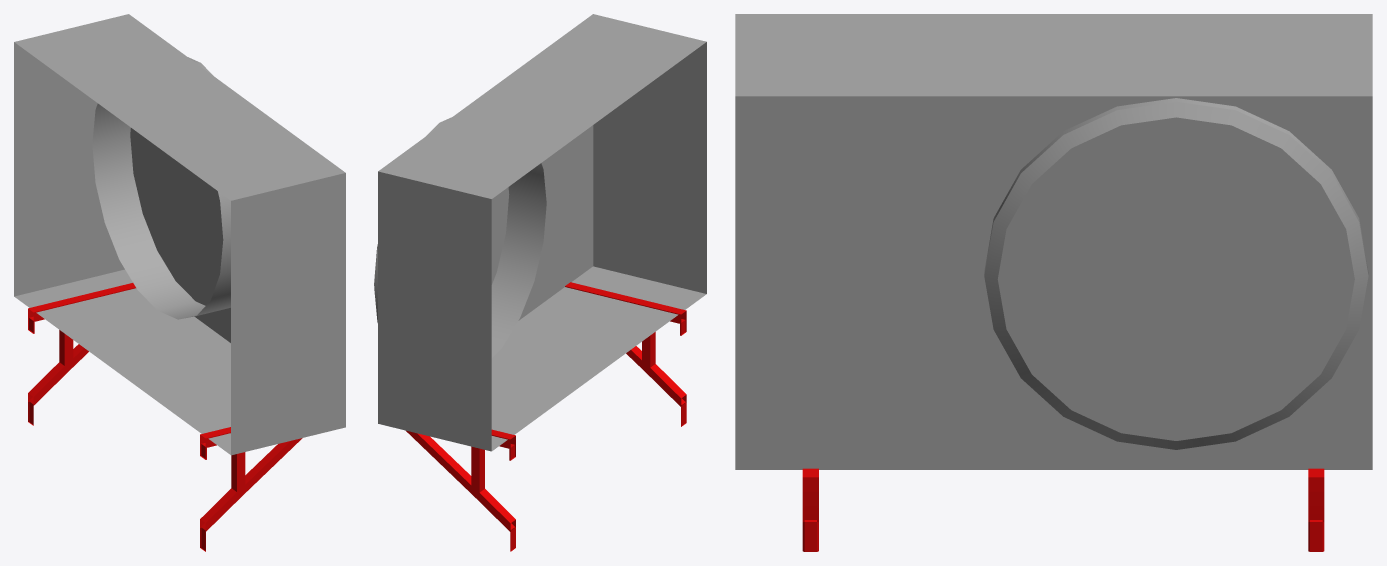
Rendered from AIR CON.fbx.
3 views of the same model, side by side, from view 1: azimuth 30°, elevation 25°; view 2: azimuth 150°, elevation 25°; view 3: azimuth 270°, elevation 25° (orthographic). The views are drawn at different scales.
Parts seen in each view (by area): view 1: air_con1; view 2: air_con1; view 3: air_con1.
Boxes of the visible parts, bbox=[...] form: air_con1: bbox=[14, 14, 345, 551]; air_con1: bbox=[374, 14, 706, 551]; air_con1: bbox=[735, 14, 1372, 551].
Size of the model in its own units: 45.99 by 125 by 134.
